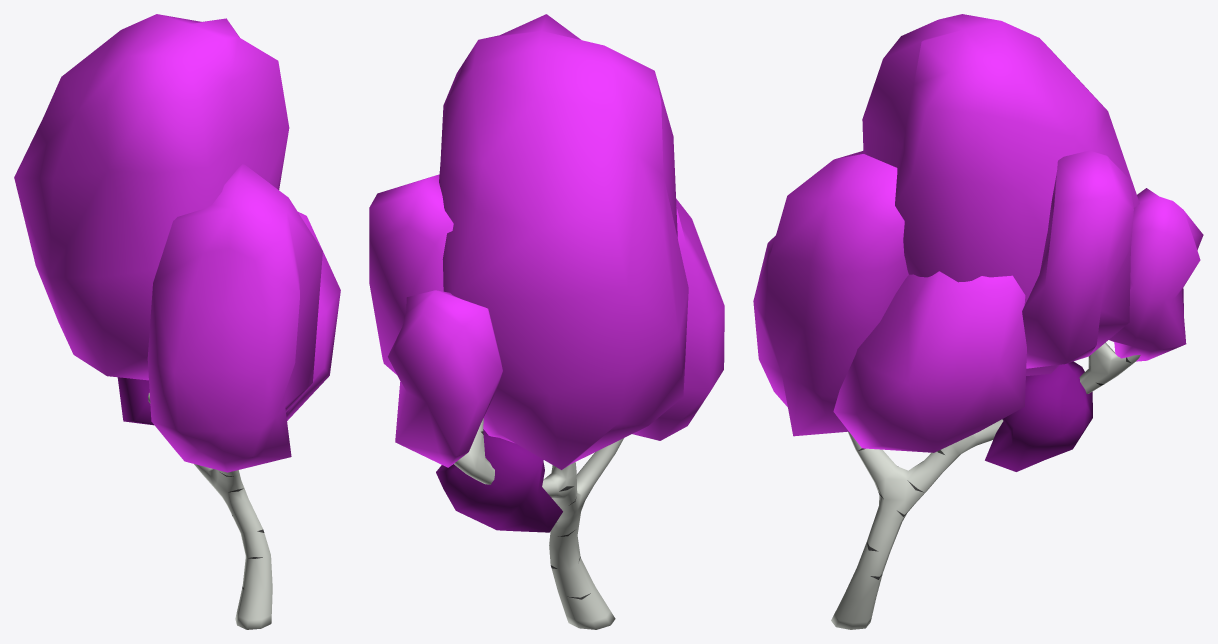
File: PinkTree1.glb
The picture shows the model from 3 angles, left to right: view 1: azimuth 30°, elevation 25°; view 2: azimuth 150°, elevation 25°; view 3: azimuth 270°, elevation 25°; orthographic projection. The views are drawn at different scales.
Parts seen in each view (by area): view 1: BirchTree_1.001, BirchTree_1; view 2: BirchTree_1.001, BirchTree_1; view 3: BirchTree_1.001, BirchTree_1.
Boxes of the visible parts, x1,y1,x2,y2 form: BirchTree_1.001: (14, 14, 340, 472); BirchTree_1: (148, 393, 272, 629); BirchTree_1.001: (369, 14, 724, 532); BirchTree_1: (454, 418, 623, 629); BirchTree_1.001: (753, 14, 1203, 471); BirchTree_1: (831, 342, 1140, 629).
Size of the model in its own units: 1.7 by 3.57 by 2.48.
